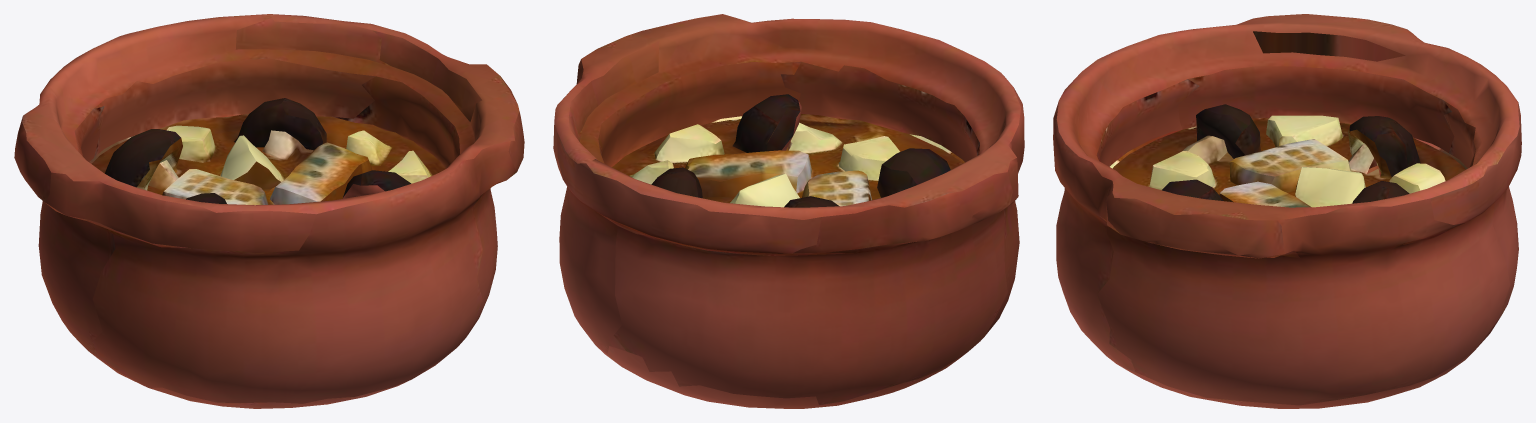
The model's file is undercroft_stew.glb.
3 views of the same model, side by side, from view 1: azimuth 30°, elevation 25°; view 2: azimuth 150°, elevation 25°; view 3: azimuth 270°, elevation 25° (orthographic).
Parts seen in each view (by area): view 1: undercroft_stew; view 2: undercroft_stew; view 3: undercroft_stew.
Boxes of the visible parts, <box> form: undercroft_stew: <box>14,14,524,408</box>; undercroft_stew: <box>553,14,1024,408</box>; undercroft_stew: <box>1053,14,1521,408</box>.
Size of the model in its own units: 1 by 0.5208 by 0.9241.
Materials: 1 (1 with a texture image).
